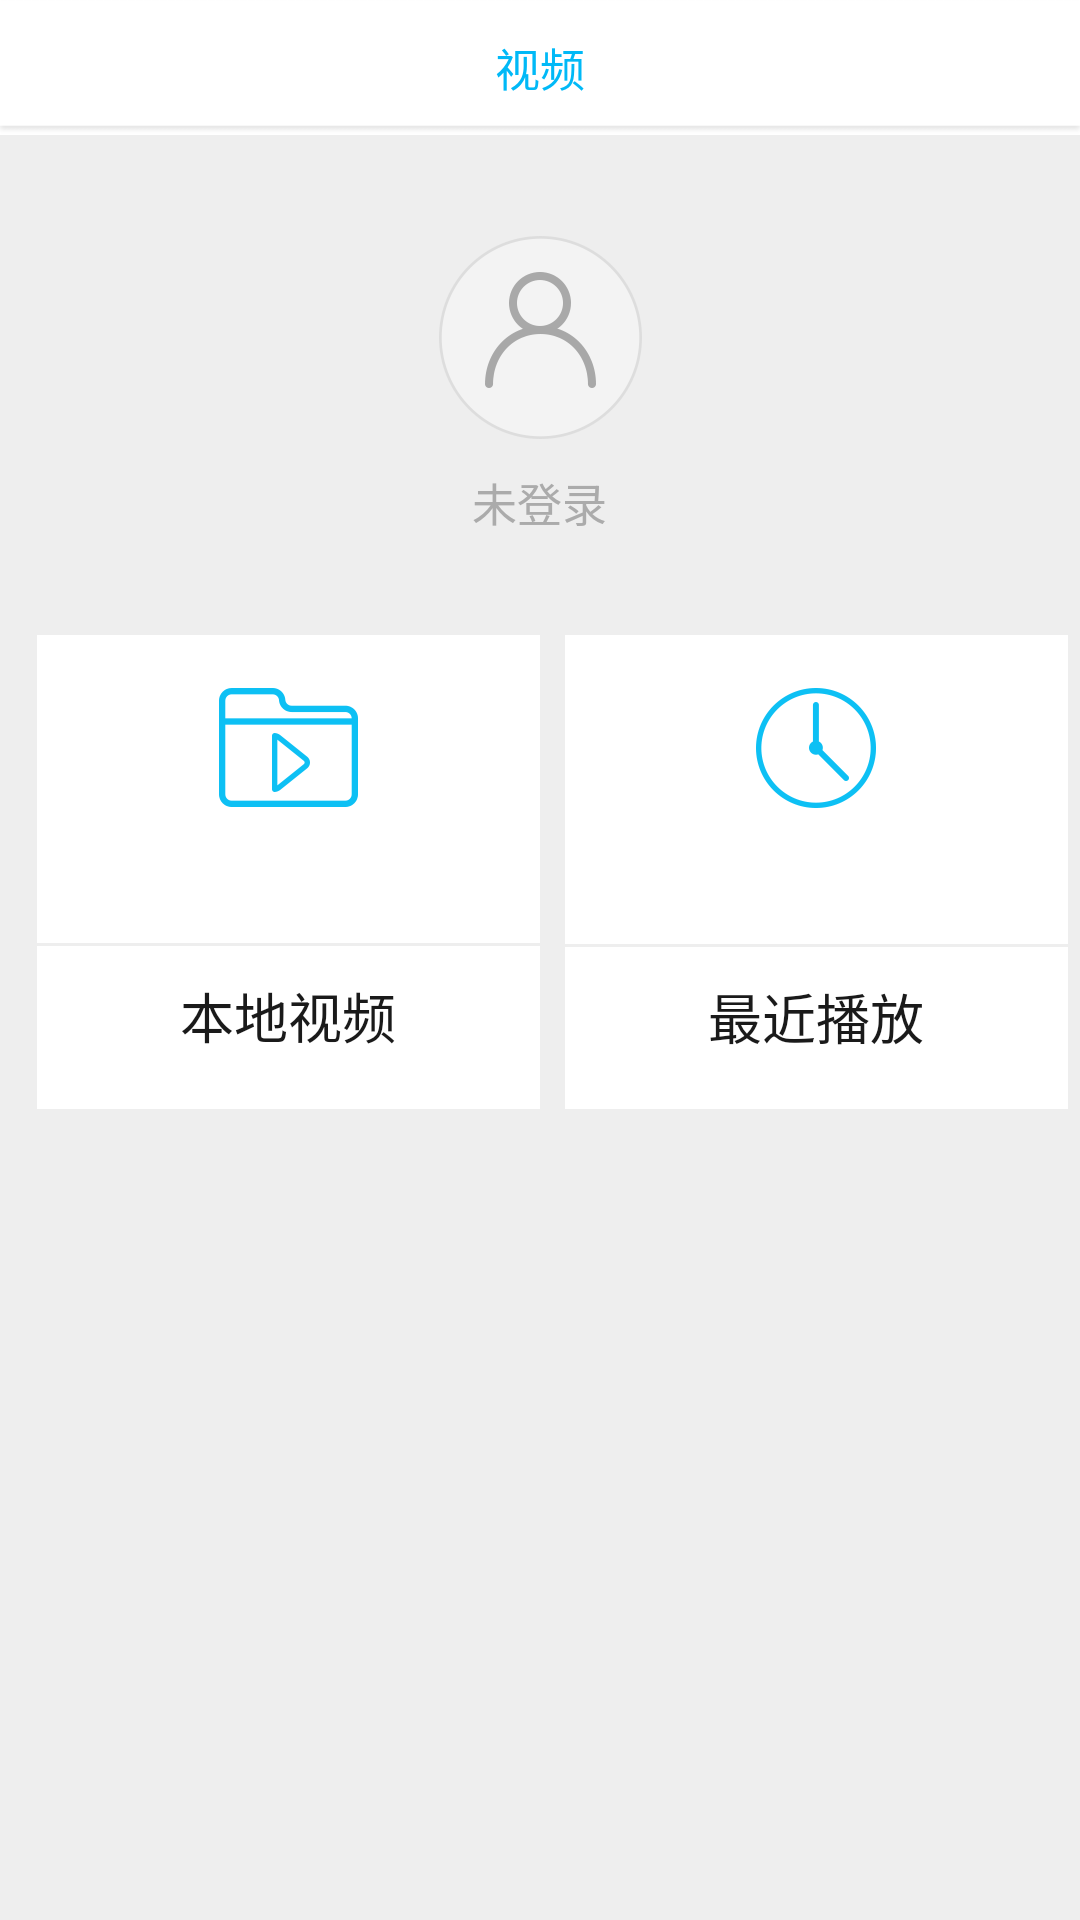

Point at icon controls on the screen. Image size 1080px x 1920px, points as (x,y).
localvideo: (288,747)
person: (540,330)
recentvideo: (816,748)
